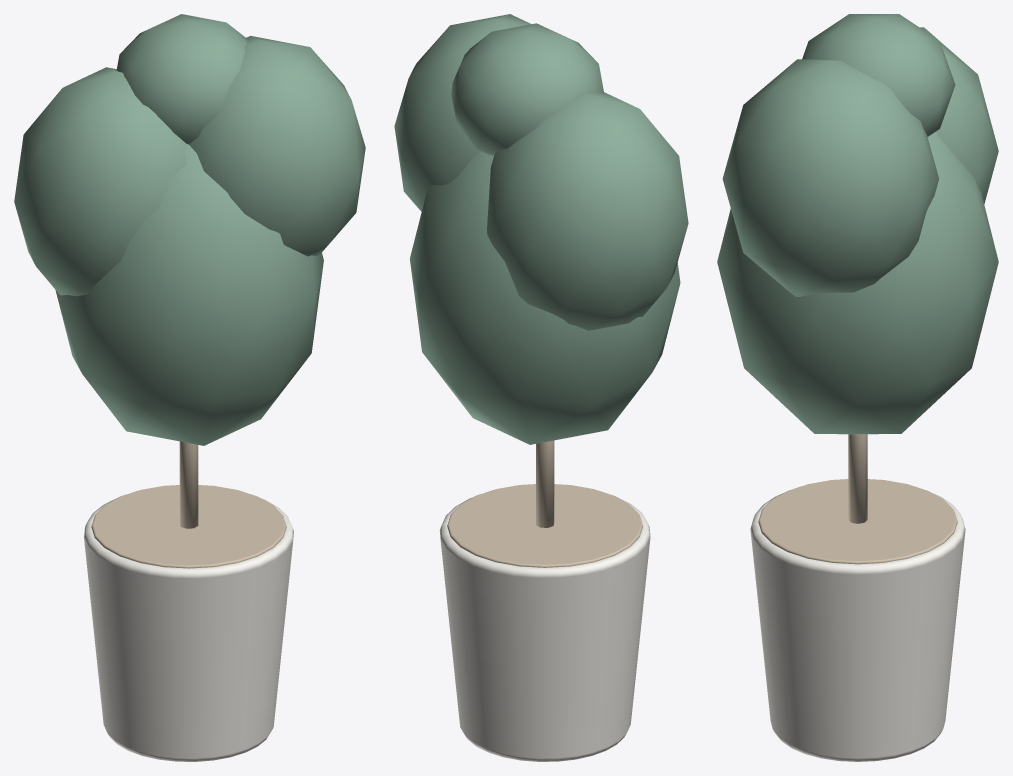
Rendered from plantTall.glb.
The picture shows the model from 3 angles, left to right: view 1: azimuth 30°, elevation 25°; view 2: azimuth 150°, elevation 25°; view 3: azimuth 270°, elevation 25°; orthographic projection. The views are drawn at different scales.
Visible parts, largest first — view 1: plantTall; view 2: plantTall; view 3: plantTall.
Part boxes in pixels (left/top/right/bottom): plantTall: left=14, top=14, right=365, bottom=761; plantTall: left=394, top=14, right=688, bottom=761; plantTall: left=717, top=14, right=998, bottom=761.
Size of the model in its own units: 0.6304 by 1.46 by 0.52.
